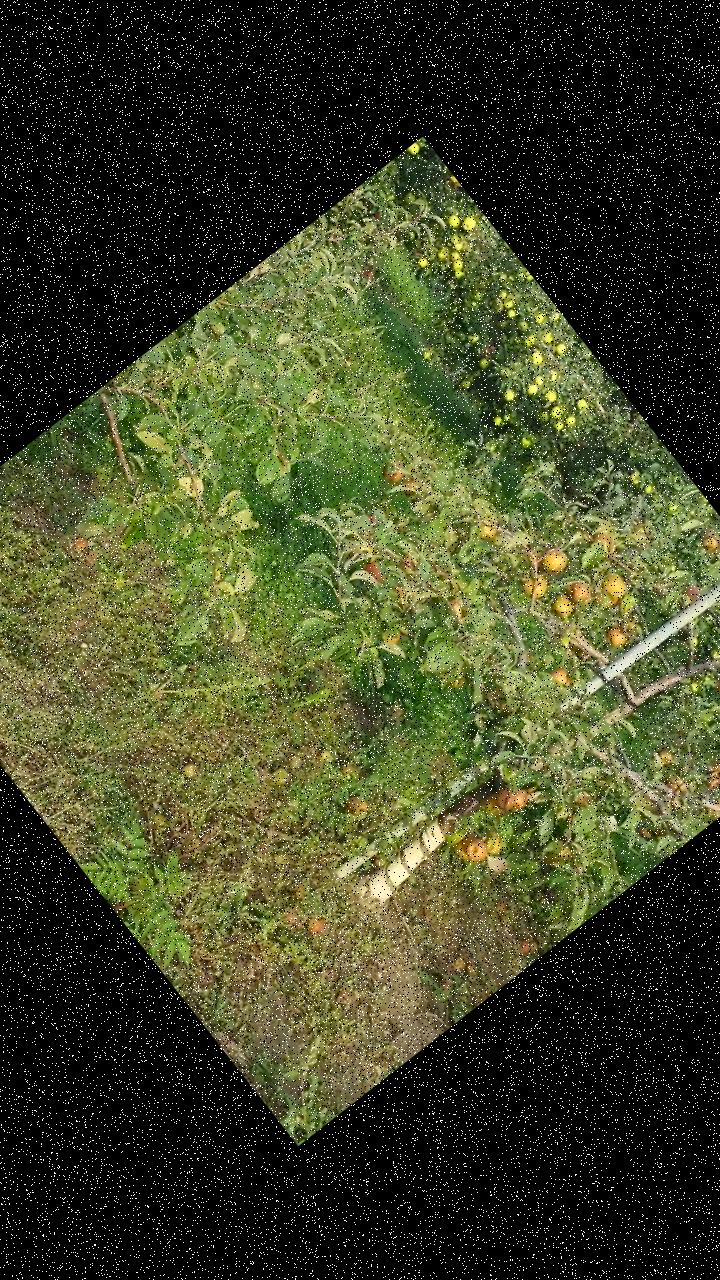Apple: (536, 542, 572, 578), (448, 830, 483, 864), (520, 569, 554, 603), (480, 786, 513, 820), (547, 587, 579, 621), (566, 574, 598, 606), (660, 770, 692, 801), (472, 516, 503, 547), (600, 569, 630, 600), (481, 826, 511, 856), (360, 556, 389, 586), (463, 834, 492, 863), (381, 456, 410, 484), (694, 522, 719, 553), (592, 526, 618, 554), (494, 786, 521, 812), (604, 622, 630, 648), (550, 664, 576, 690), (387, 576, 412, 602), (507, 786, 532, 810), (680, 579, 704, 603), (654, 744, 678, 768), (636, 820, 658, 843), (397, 550, 419, 572), (382, 626, 404, 647), (702, 767, 719, 792), (365, 508, 380, 524)
